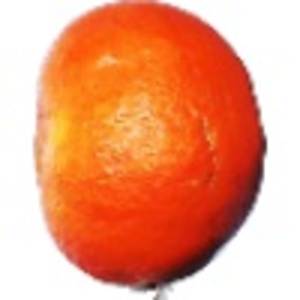tangerina: (32, 1, 268, 300)
